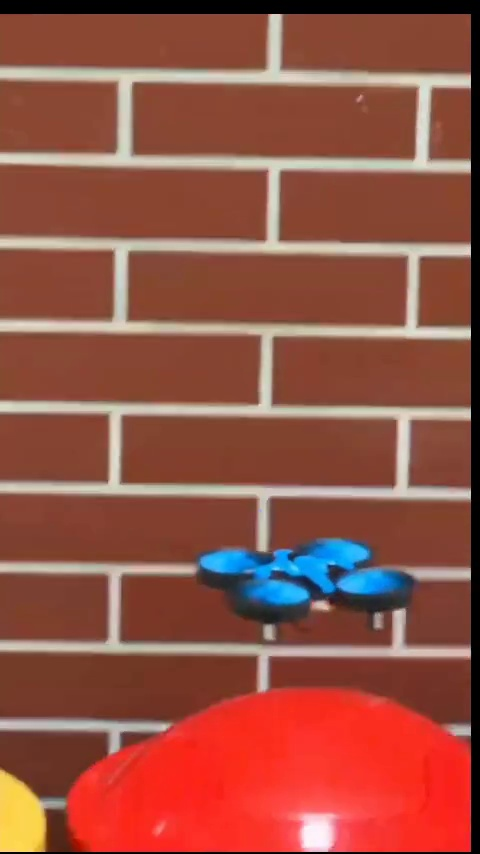drone: (198, 543, 419, 633)
